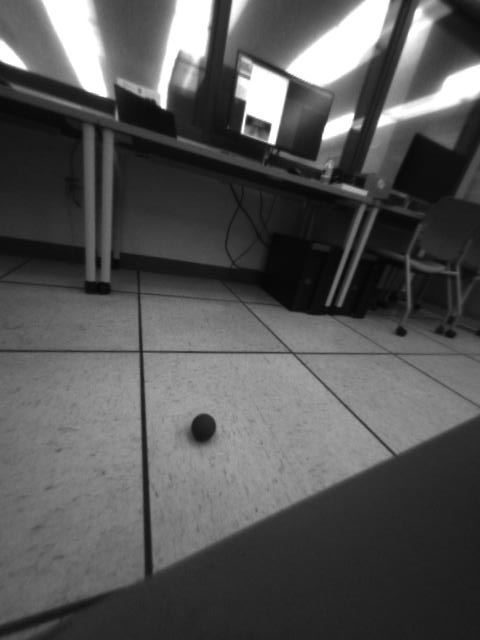dogtoy: (185, 404, 224, 450)
